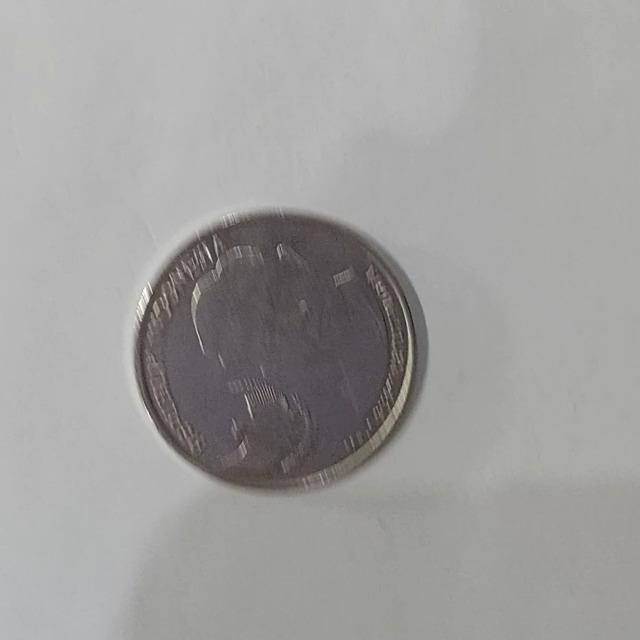Rp100: (130, 204, 418, 492)
